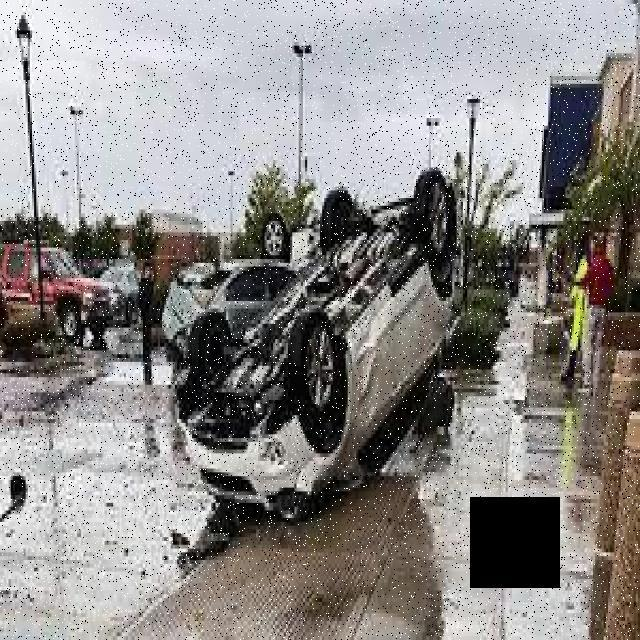severe: (170, 156, 466, 522)
